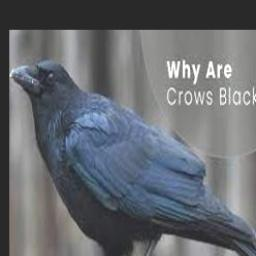Crow: (9, 61, 256, 256)
